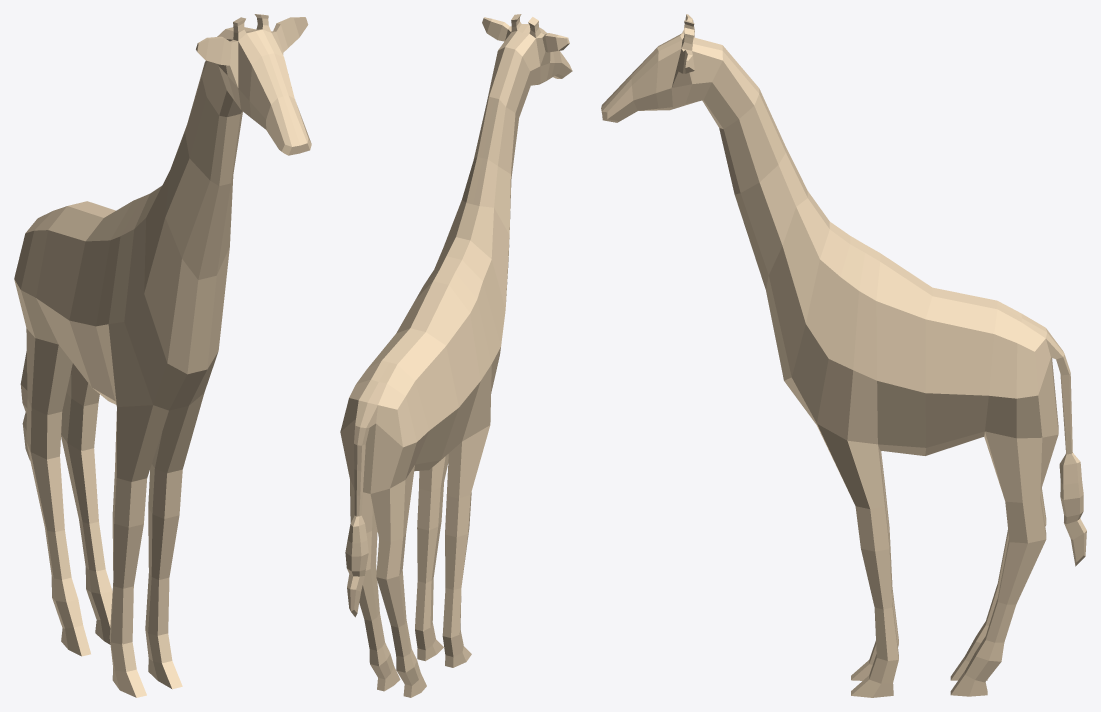
The model's file is 18girafFinal.fbx.
3 views of the same model, side by side, from view 1: azimuth 30°, elevation 25°; view 2: azimuth 150°, elevation 25°; view 3: azimuth 270°, elevation 25° (orthographic). The views are drawn at different scales.
Visible parts, largest first — view 1: 18girafFinal; view 2: 18girafFinal; view 3: 18girafFinal.
Part boxes in pixels (x1,y1,x2,y2): 18girafFinal: (14,14,311,697); 18girafFinal: (340,14,572,697); 18girafFinal: (601,14,1086,697).
Bounding box in the file's own units: 61.76 × 396 × 263.
